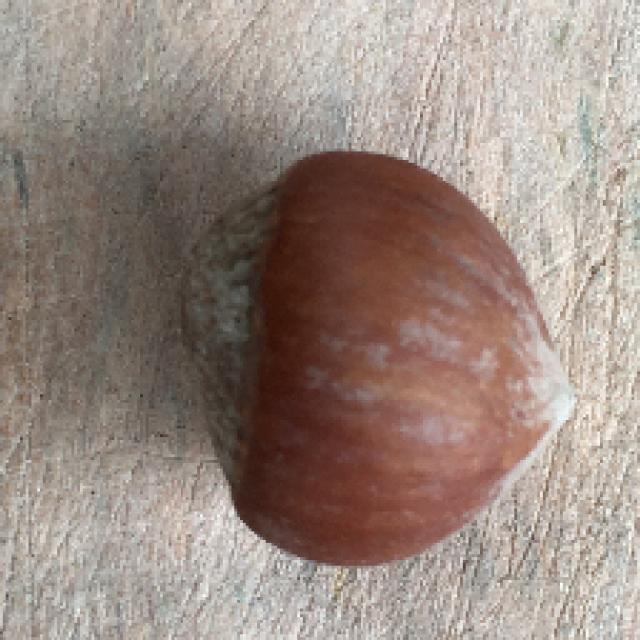qualityHazelnut: (152, 148, 579, 564)
